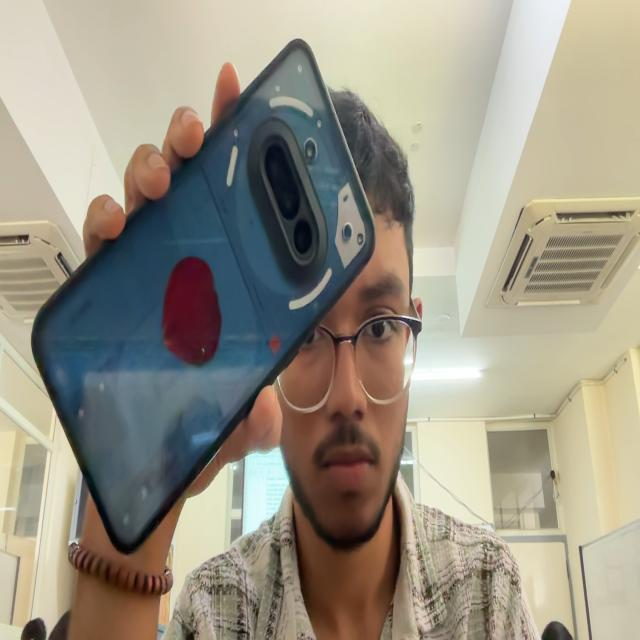Useful: (32, 41, 375, 552)
